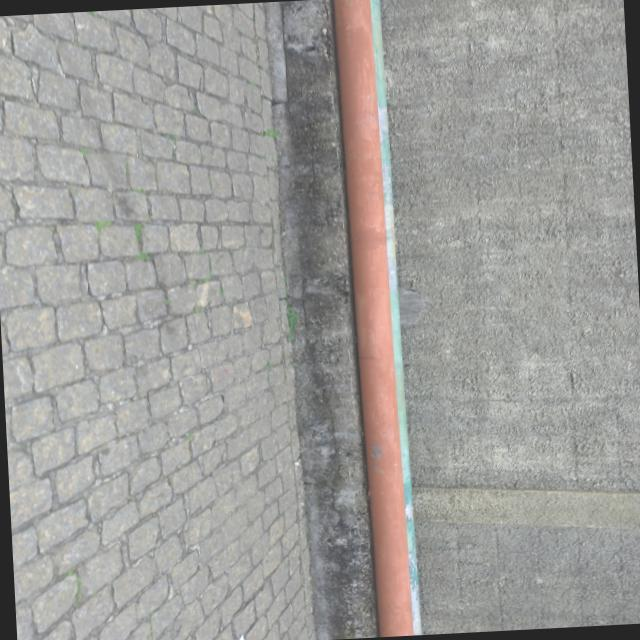gas: (330, 0, 415, 638)
